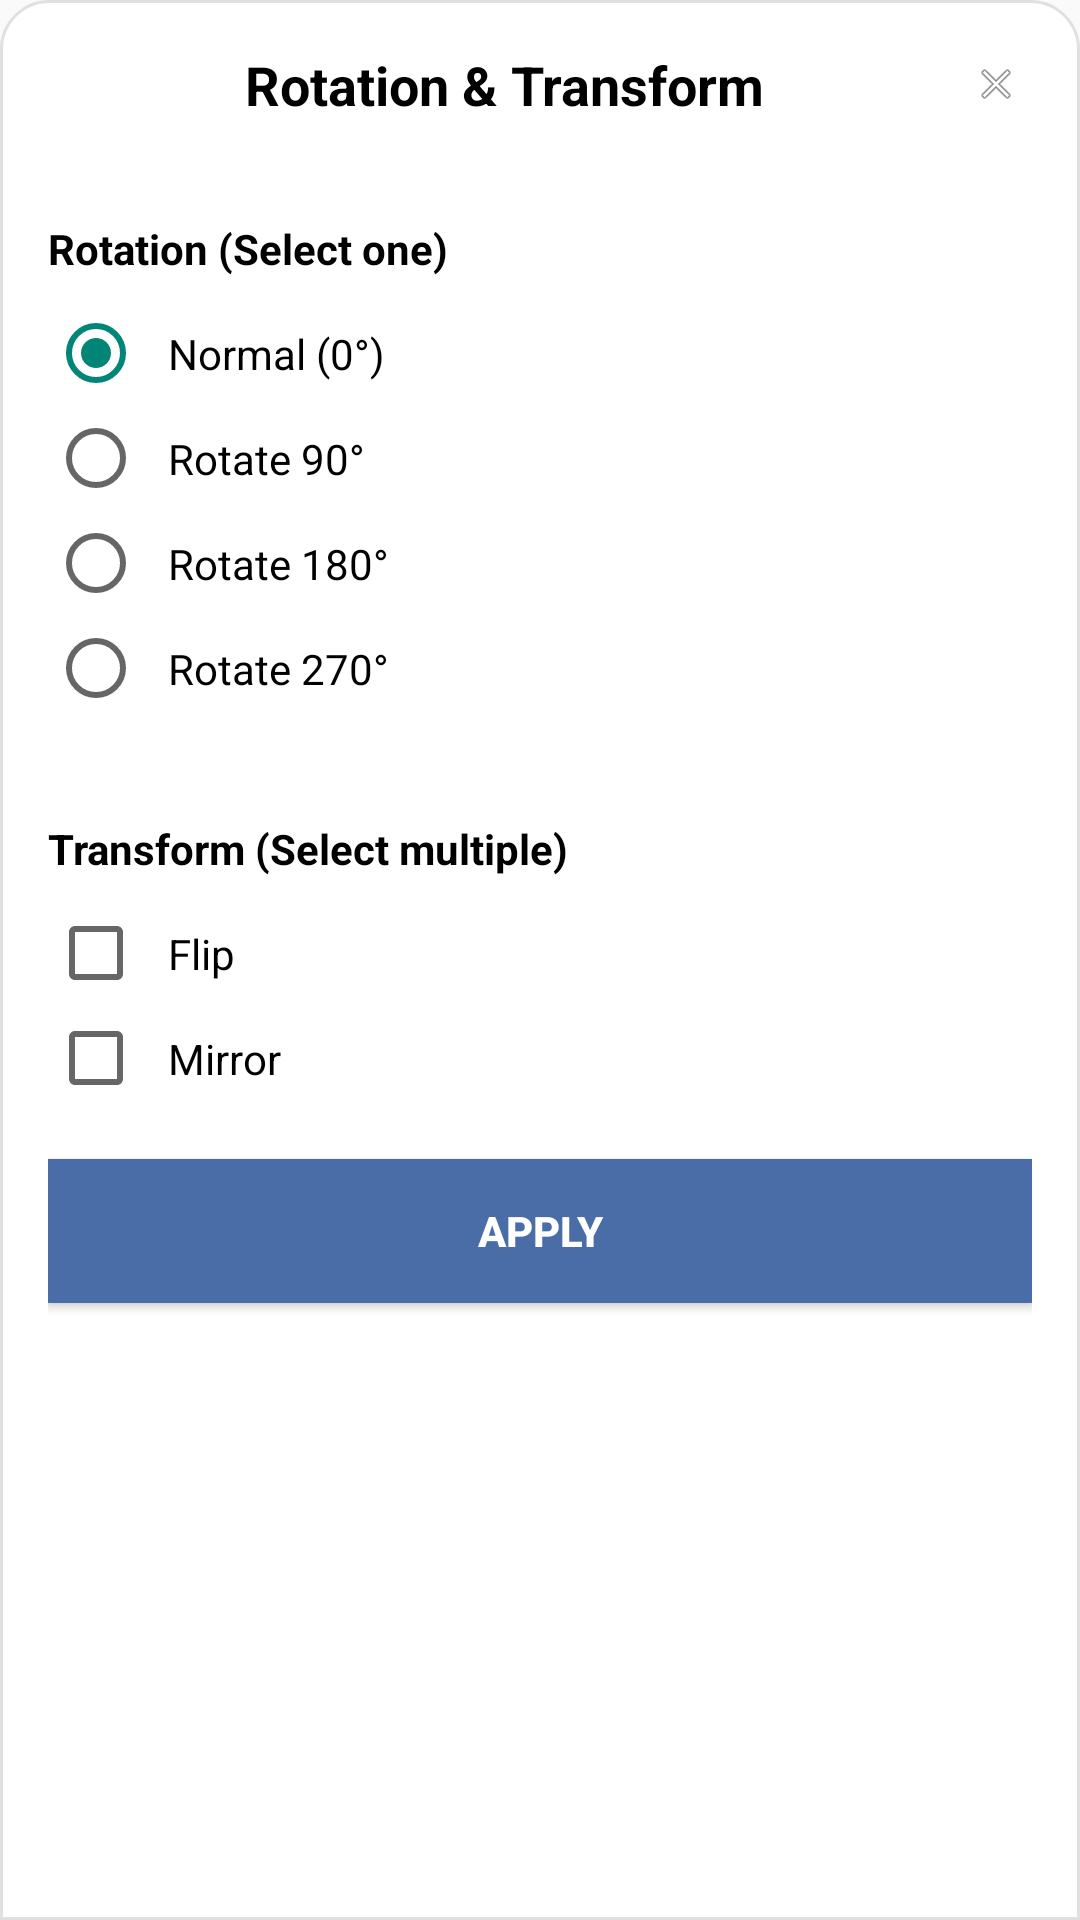

Where to tap for icons on this 1080px x 1920px app screen, as (x,y):
close clear cancel: (996,84)
